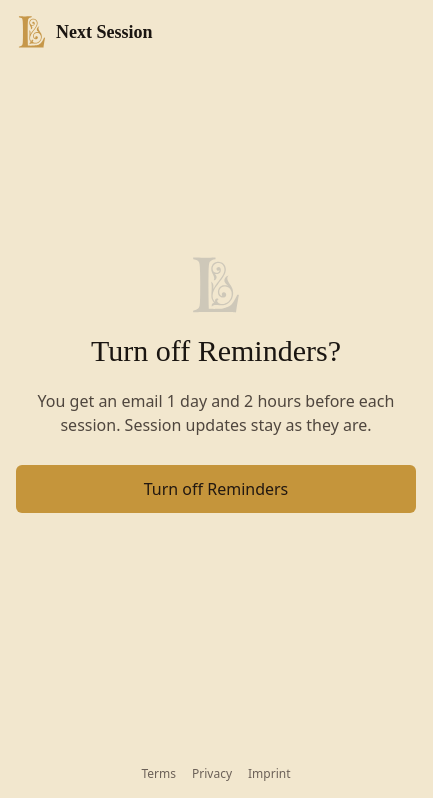
RemindersOff › turns Reminders off on the press and offers to turn them back on
This screenshot has width=433, height=798.
Click the button "Turn off Reminders" at [216, 489], box [16, 465, 416, 513]
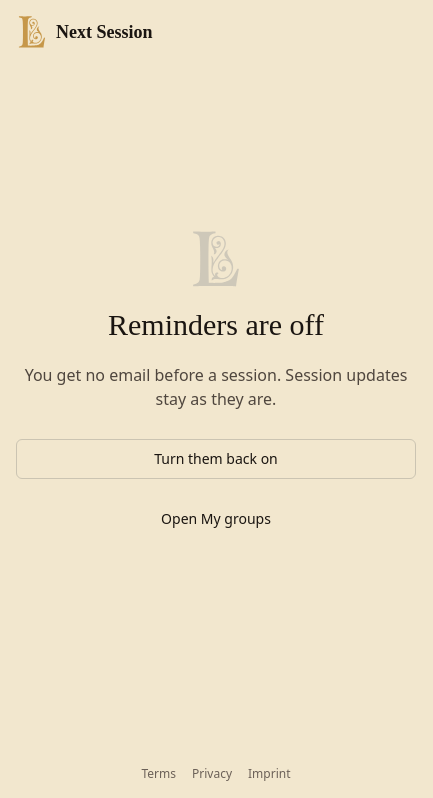
Result: the button "Turn them back on" is shown at [16, 439, 416, 479]
